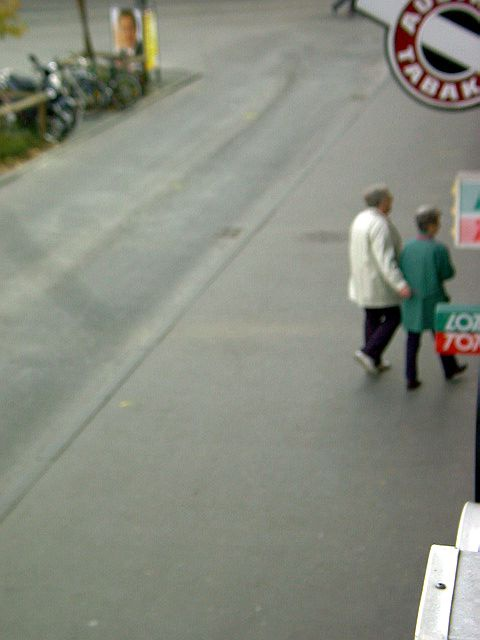person: (398, 201, 468, 388), (347, 184, 401, 375)
